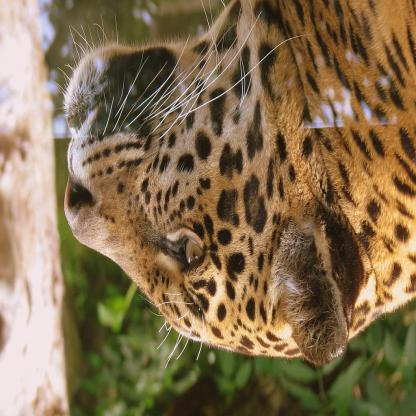leopard: (58, 44, 343, 382)
